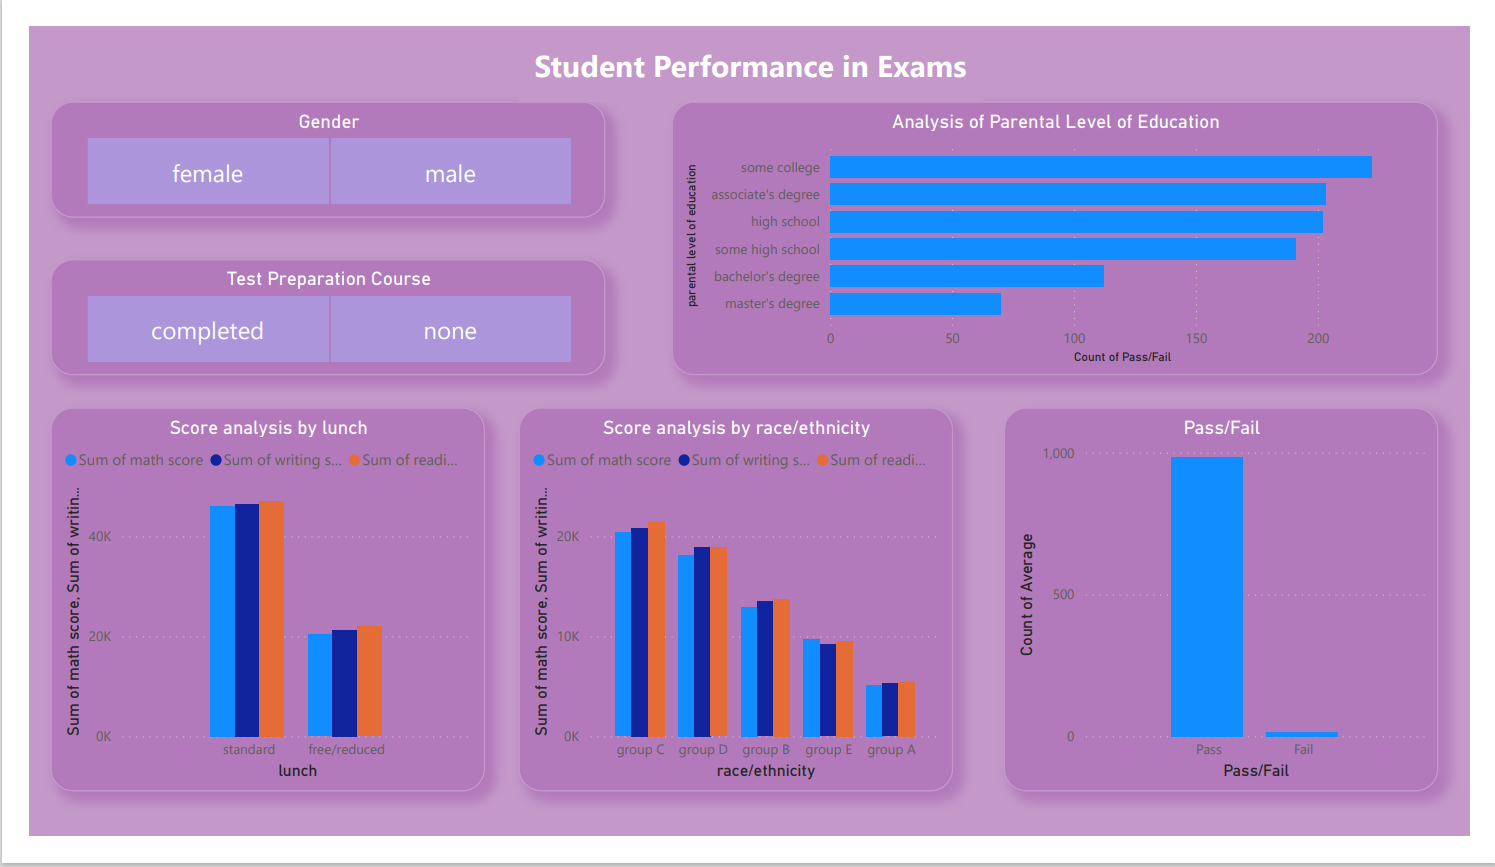

Layout of this report page (visuals, bound fields, positions):
{"tool":"powerbi","page":{"name":"Page 1","canvas":[1280,720],"ordinal":0},"visuals":[{"type":"slicer","title":"Gender","fields":{"Values":["exams1.gender"]},"box":[19.2,67.3,493,103],"z":0},{"type":"slicer","title":"Test Preparation Course","fields":{"Values":["exams1.test preparation course"]},"box":[19.2,207.4,493,103],"z":1000},{"type":"clusteredColumnChart","title":"Score analysis by lunch","fields":{"Y":["Sum(exams1.math score)","Sum(exams1.writing score)","Sum(exams1.reading score)"],"Category":["exams1.lunch"]},"box":[19.2,339.2,385.9,340.6],"z":2000},{"type":"clusteredColumnChart","title":"Score analysis by race/ethnicity ","fields":{"Y":["Sum(exams1.math score)","Sum(exams1.writing score)","Sum(exams1.reading score)"],"Category":["exams1.race/ethnicity"]},"box":[435.4,339.2,385.9,340.6],"z":3000},{"type":"clusteredColumnChart","title":"Pass/Fail","fields":{"Category":["exams1.Pass/Fail"],"Y":["CountNonNull(exams1.Average)"]},"box":[866.6,339.2,385.9,340.6],"z":4000},{"type":"clusteredBarChart","title":"Analysis of Parental Level of Education","fields":{"Category":["exams1.parental level of education"],"Y":["CountNonNull(exams1.Pass/Fail)"]},"box":[571.3,67.3,681.2,243.1],"z":5000},{"type":"textbox","box":[435.4,11,412,56.3],"z":5001}]}

Visuals, with their boxes on the page's 1280x720 design canvas (x1, y1, x2, y2). These are canvas units, not pixel positions in the 1495x867 screenshot, which may show the page scaled, cropped or inside an application window:
"Gender" slicer: pyautogui.locateOnScreen(19, 67, 512, 170)
"Test Preparation Course" slicer: pyautogui.locateOnScreen(19, 207, 512, 310)
"Score analysis by lunch" clusteredColumnChart: pyautogui.locateOnScreen(19, 339, 405, 680)
"Score analysis by race/ethnicity " clusteredColumnChart: pyautogui.locateOnScreen(435, 339, 821, 680)
"Pass/Fail" clusteredColumnChart: pyautogui.locateOnScreen(867, 339, 1252, 680)
"Analysis of Parental Level of Education" clusteredBarChart: pyautogui.locateOnScreen(571, 67, 1252, 310)
textbox: pyautogui.locateOnScreen(435, 11, 847, 67)
